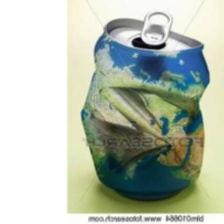can: (79, 7, 212, 203)
